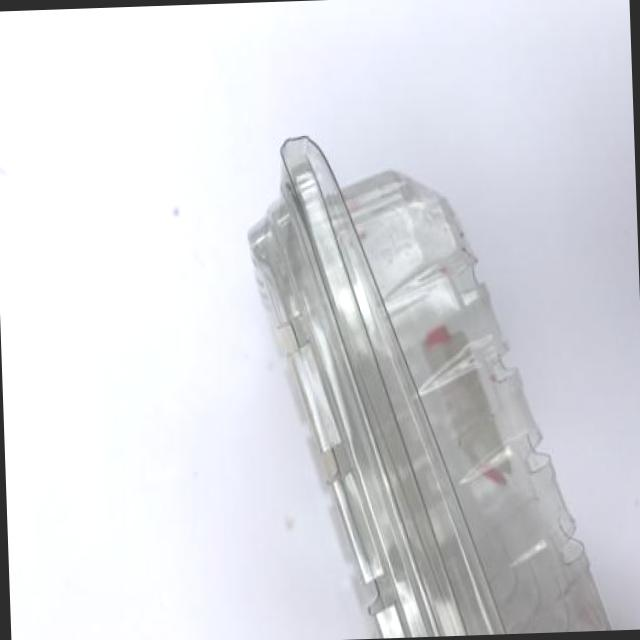Trash: (238, 123, 620, 640)
